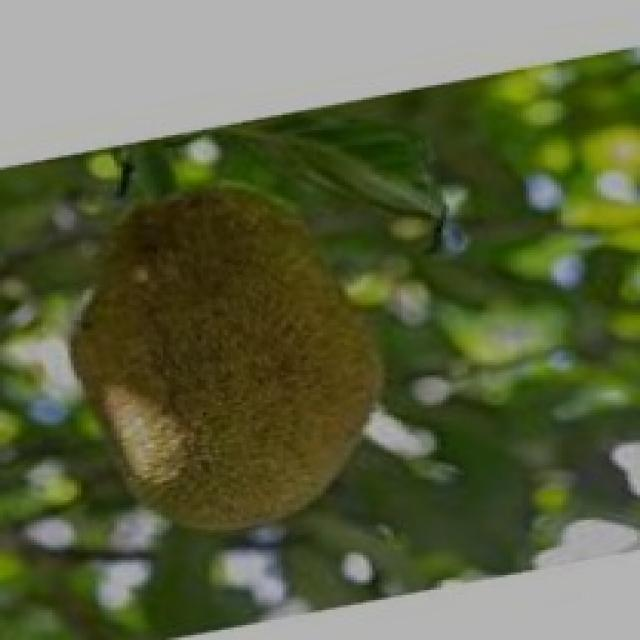Fruit: (31, 153, 422, 565)
